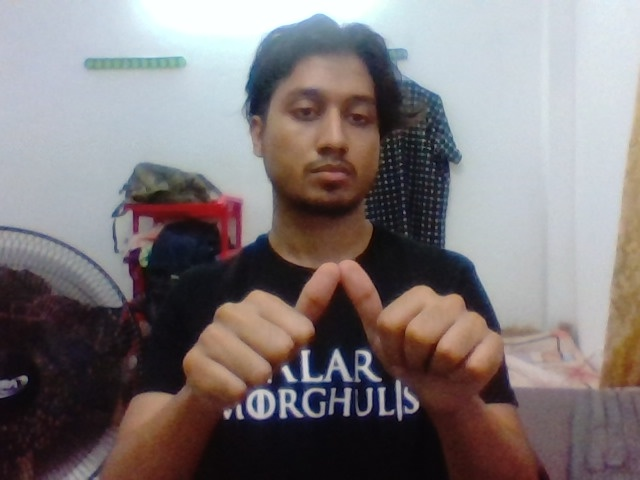A: (178, 234, 510, 432)
